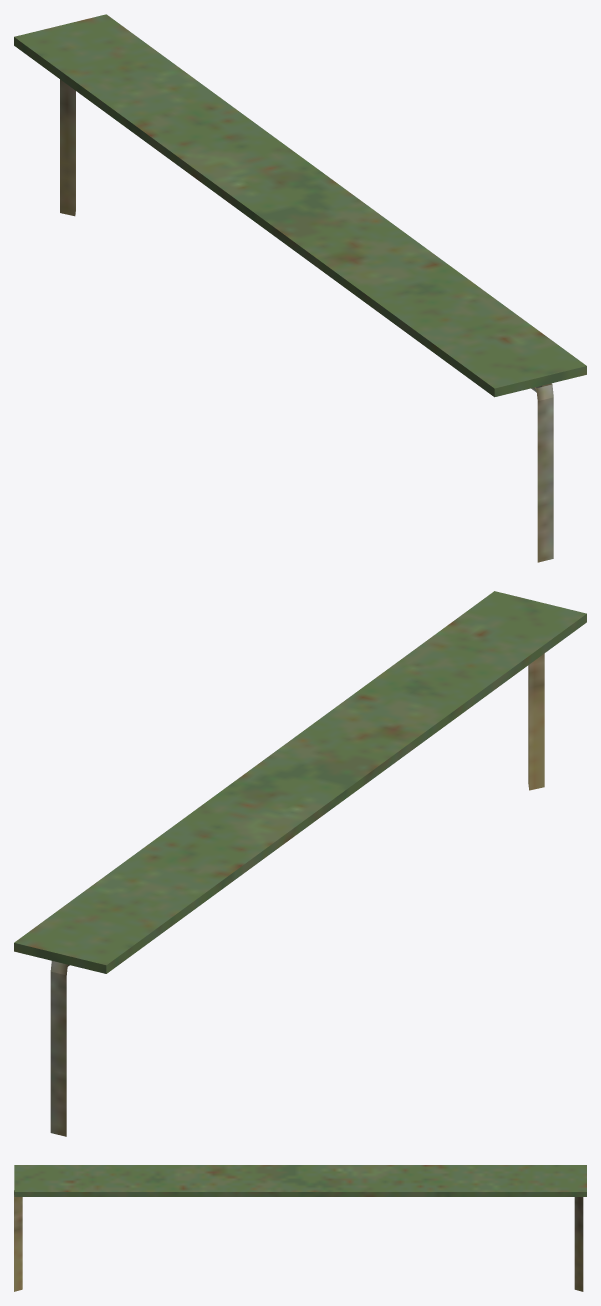
File: Urban_BusstopBenchLong_Model.fbx
3 views of the same model, one above another, from view 1: azimuth 30°, elevation 25°; view 2: azimuth 150°, elevation 25°; view 3: azimuth 270°, elevation 25° (orthographic). The views are drawn at different scales.
Visible parts, largest first — view 1: Urban_BusstopBenchLong_Mesh; view 2: Urban_BusstopBenchLong_Mesh; view 3: Urban_BusstopBenchLong_Mesh.
Part boxes in pixels (<box>): Urban_BusstopBenchLong_Mesh: <box>14,14,586,562</box>; Urban_BusstopBenchLong_Mesh: <box>14,591,586,1136</box>; Urban_BusstopBenchLong_Mesh: <box>14,1165,586,1291</box>.
Bounding box in the file's own units: 0.4 × 0.7619 × 3.6.
